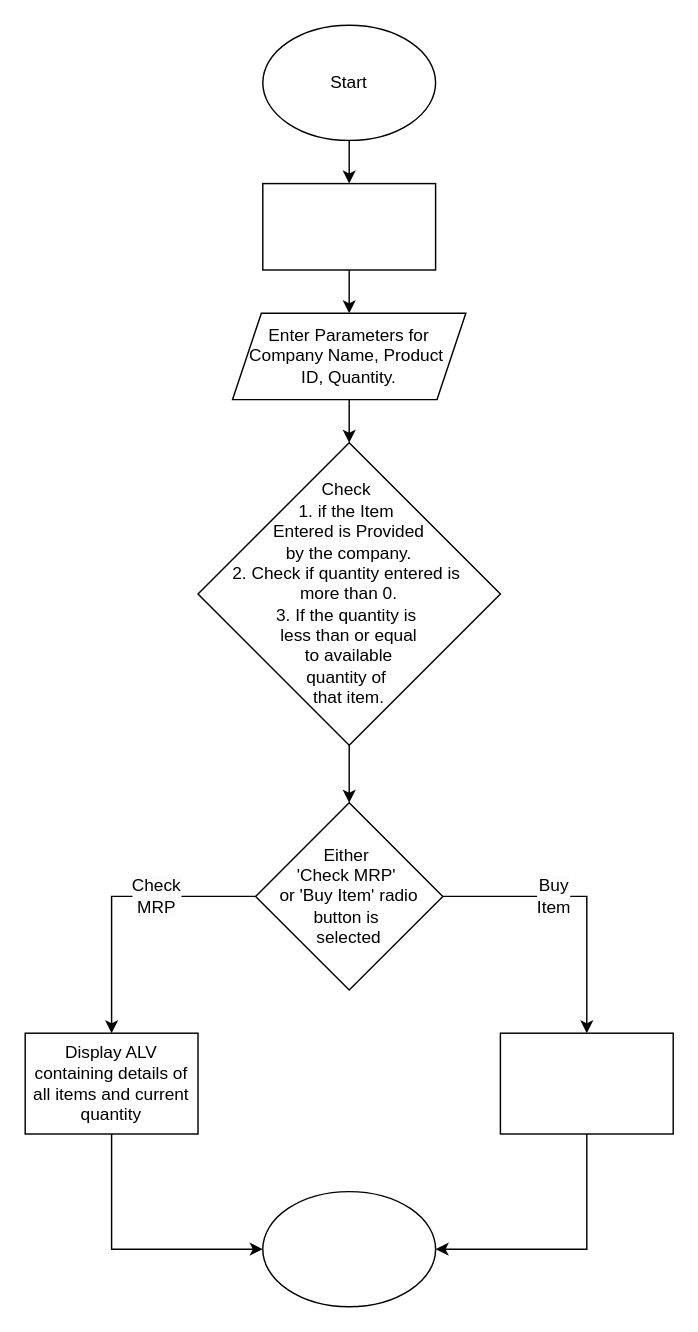
Image size: 698x1332. Some labels were removed from this diagram. The shapes that lost their labels are listed below. From the top down, each one's box as (x1, y1, x2, y2) in pixels, then its label:
(261, 182, 436, 270): ZSWOJT02 runs as standard report program
(499, 1032, 673, 1134): Calculate and show ALV of Discounted Price
(261, 1190, 436, 1307): End
